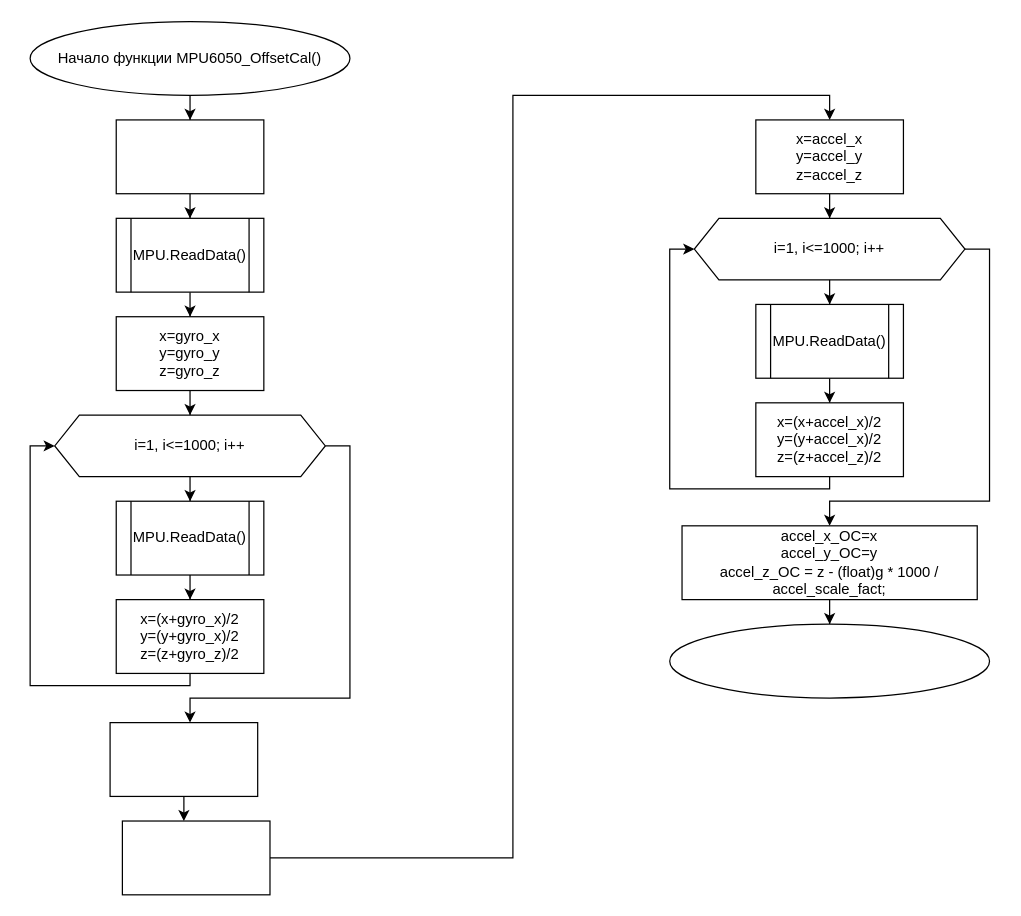
Image size: 1021x916. Some labels were removed from this diagram. The shapes that lost their labels are listed below. From the top down, each one's box as (x1, y1, x2, y2) in pixels, then its label:
(115, 119, 264, 194): Вывод в консоль сообщения о начале калибровки гироскопа
(669, 623, 990, 698): Конец функции MPU6050_OffsetCal()
(109, 721, 258, 796): gyro_x_OC=x gyro_y_OY=y gyro_z_OZ=z
(121, 820, 270, 895): Вывод в консоль сообщения о начале калибровки асклерометра
